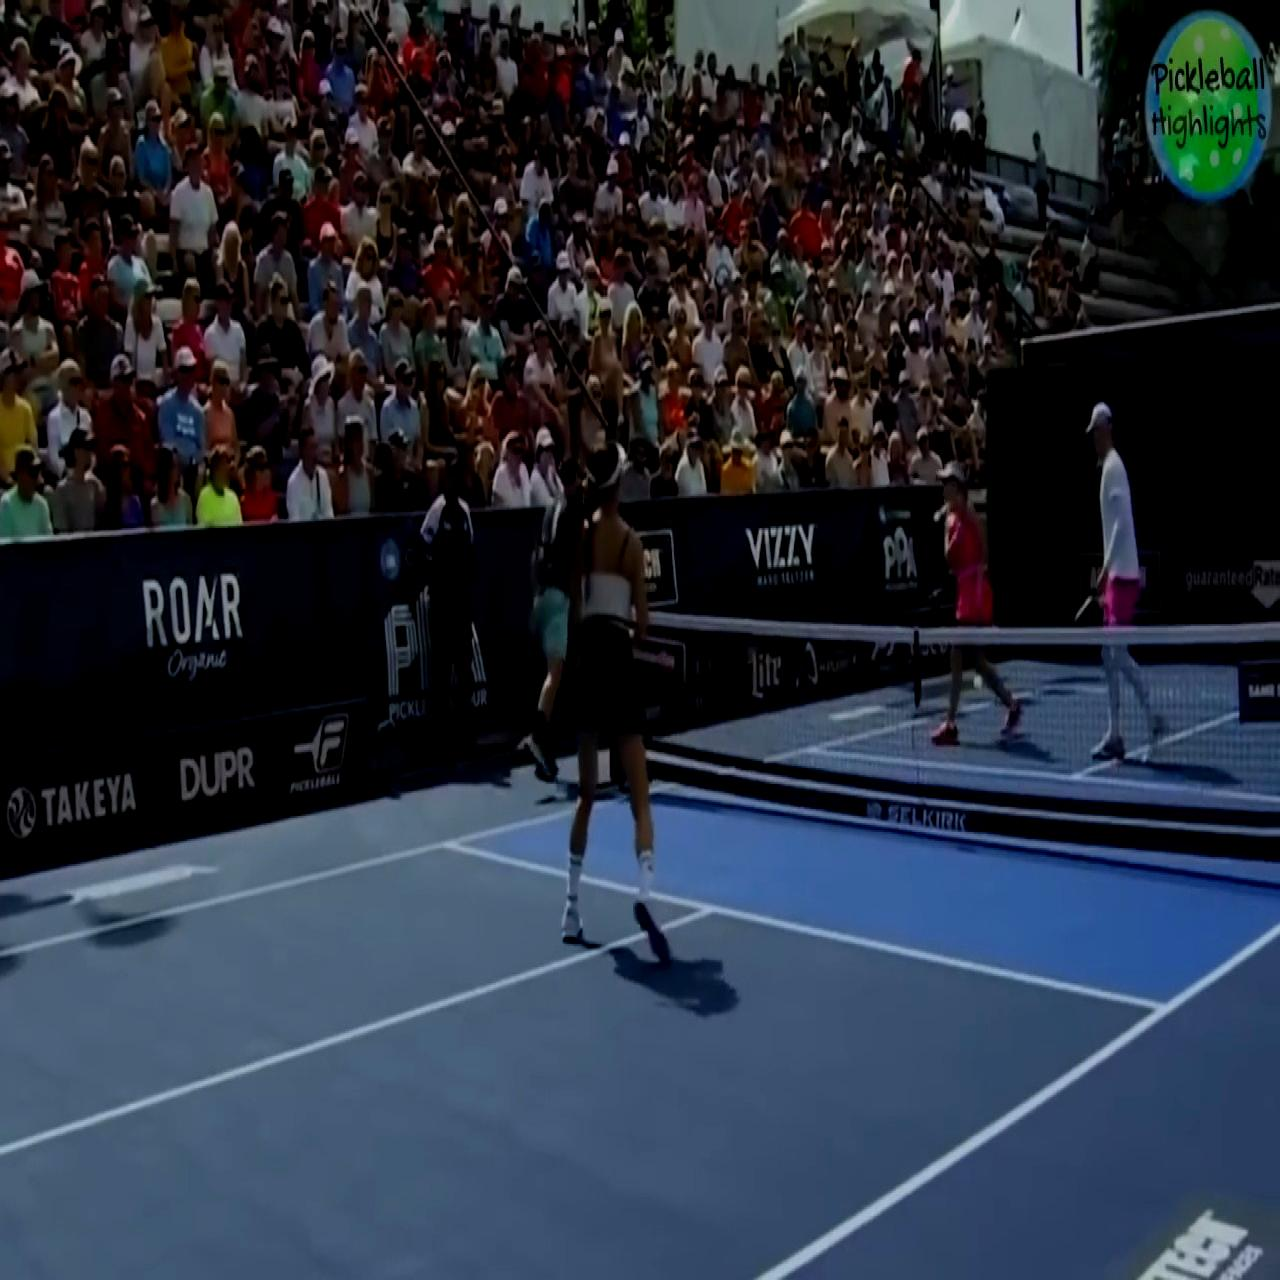Pickleball: (968, 667, 981, 693)
